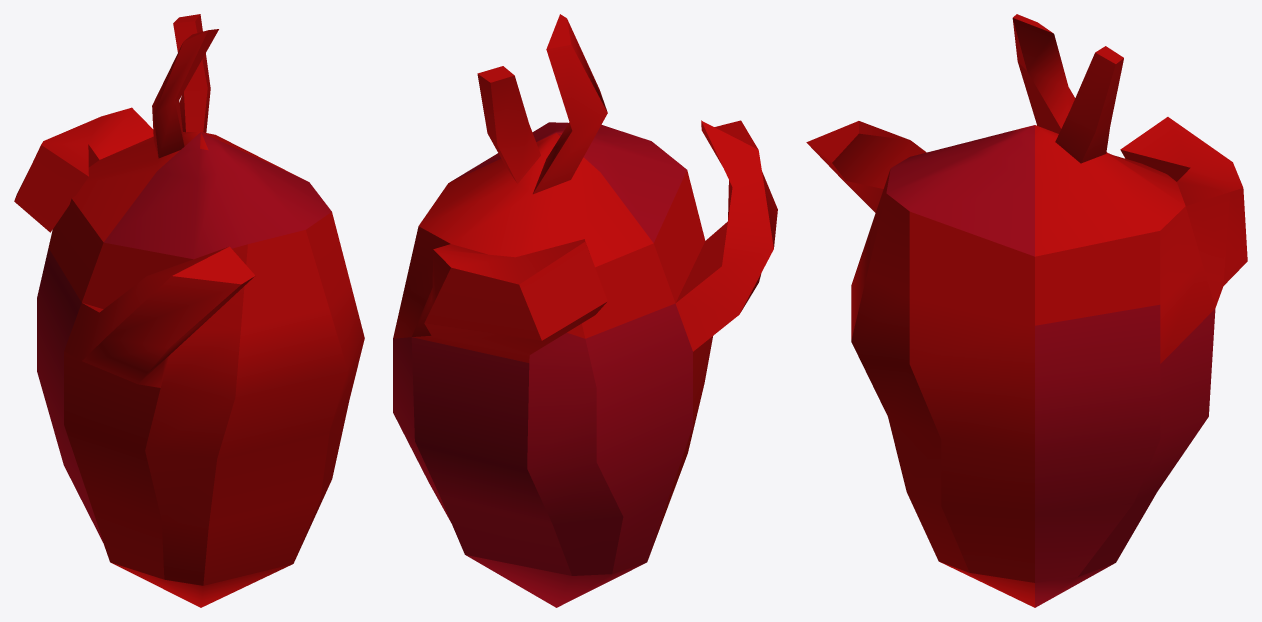
Rendered from Heart.fbx.
3 views of the same model, side by side, from view 1: azimuth 30°, elevation 25°; view 2: azimuth 150°, elevation 25°; view 3: azimuth 270°, elevation 25° (orthographic).
Visible parts, largest first — view 1: pCylinder1; view 2: pCylinder1; view 3: pCylinder1.
Boxes of the visible parts, left/top/right/bottom form: pCylinder1: left=14, top=14, right=364, bottom=607; pCylinder1: left=393, top=14, right=777, bottom=607; pCylinder1: left=806, top=14, right=1247, bottom=607.
Bounding box in the file's own units: 1.61 × 3.07 × 2.07.
